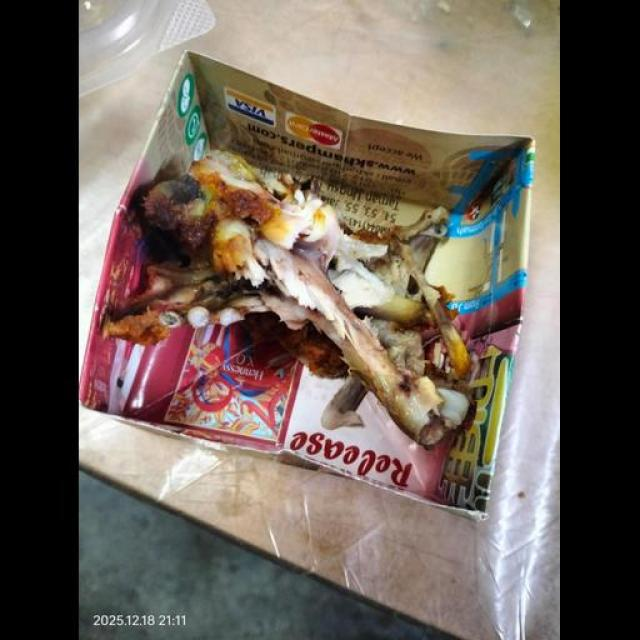organic: (146, 70, 477, 488), (309, 124, 339, 146)
